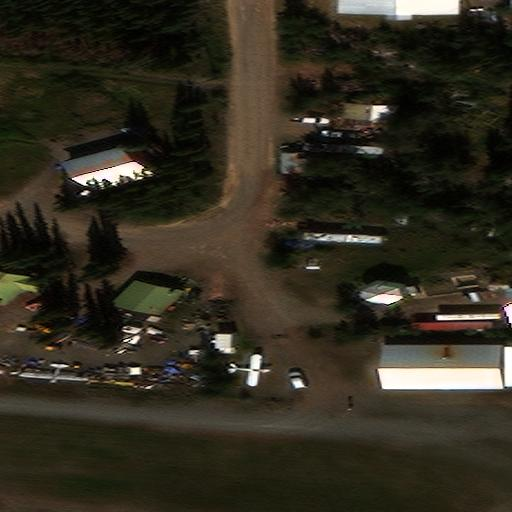Small Civil Transport: (19, 363, 88, 383), (229, 355, 270, 386)
